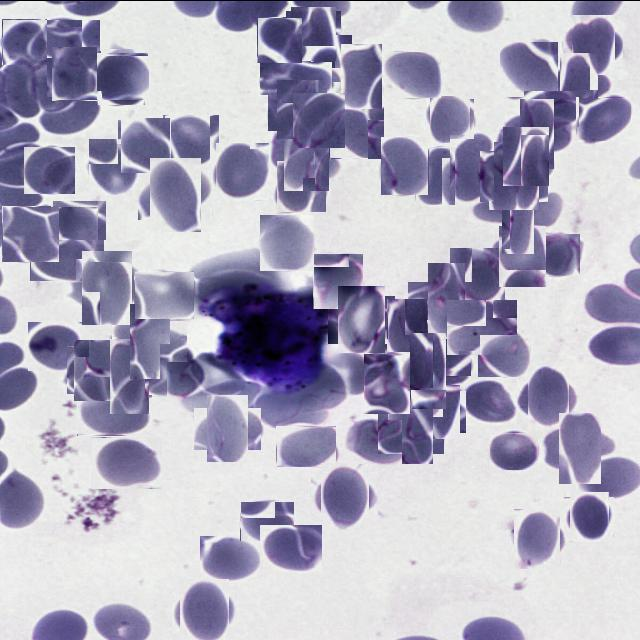red blood cell: (446, 298, 517, 354), (144, 162, 207, 225), (76, 256, 138, 318), (377, 307, 438, 368), (92, 436, 162, 488), (488, 179, 548, 239), (484, 146, 544, 206), (277, 124, 335, 184), (316, 466, 374, 524), (120, 312, 178, 369), (333, 290, 390, 348), (176, 581, 233, 638), (551, 419, 608, 476), (100, 348, 158, 404), (501, 40, 558, 96), (2, 205, 59, 261), (77, 393, 152, 435), (214, 143, 270, 199), (418, 272, 474, 328), (383, 402, 439, 458), (30, 238, 104, 280), (70, 342, 126, 397), (401, 342, 456, 398), (260, 524, 322, 573), (260, 214, 314, 270), (200, 401, 255, 455), (450, 248, 505, 302), (88, 138, 142, 192), (496, 228, 550, 282), (292, 92, 346, 146), (200, 535, 262, 582), (450, 134, 494, 200), (134, 270, 194, 318), (511, 511, 564, 565), (329, 106, 384, 158), (163, 114, 220, 164), (28, 18, 100, 57), (313, 252, 363, 308), (364, 353, 410, 413), (120, 118, 173, 170), (522, 371, 574, 424), (342, 43, 384, 108), (40, 90, 102, 134), (384, 50, 442, 97), (382, 136, 429, 194), (567, 18, 619, 70), (554, 59, 606, 111), (96, 50, 148, 102), (512, 107, 564, 159), (500, 129, 552, 181), (28, 321, 82, 370), (272, 83, 323, 134), (50, 199, 106, 244), (276, 161, 326, 211), (288, 8, 338, 58), (50, 48, 100, 98), (478, 328, 530, 376), (23, 145, 75, 193), (346, 419, 402, 463), (276, 425, 336, 466), (576, 96, 631, 140), (260, 61, 332, 94), (415, 146, 455, 204), (415, 387, 463, 435), (412, 336, 471, 375), (464, 378, 516, 422), (160, 343, 204, 393), (240, 500, 294, 540), (257, 16, 302, 62), (2, 18, 47, 64), (566, 494, 612, 538), (524, 90, 579, 126), (428, 96, 472, 140), (310, 36, 354, 80), (489, 431, 538, 469), (536, 233, 580, 275)
